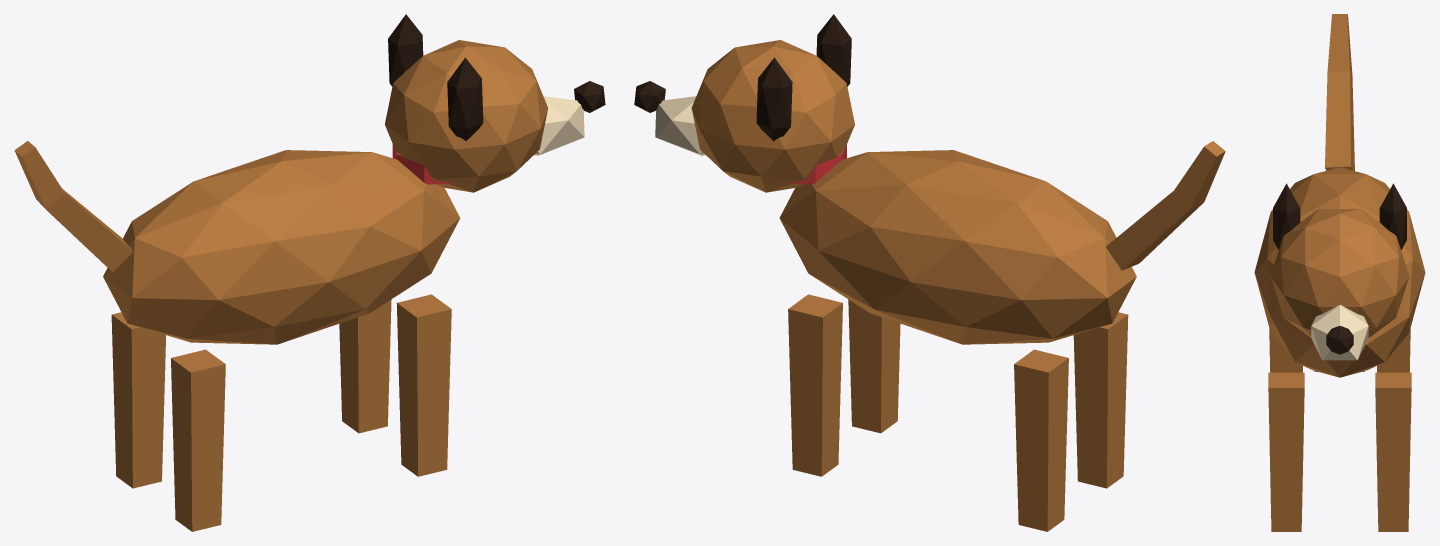
Rendered from dog.glb.
3 views of the same model, side by side, from view 1: azimuth 30°, elevation 25°; view 2: azimuth 150°, elevation 25°; view 3: azimuth 270°, elevation 25° (orthographic). The views are drawn at different scales.
Visible parts, largest first — view 1: dog; view 2: dog; view 3: dog.
Boxes of the visible parts, x1,y1,x2,y2 form: dog: (14,14,605,531); dog: (634,14,1225,531); dog: (1254,14,1425,531).
Size of the model in its own units: 1.14 by 0.744 by 0.32.
